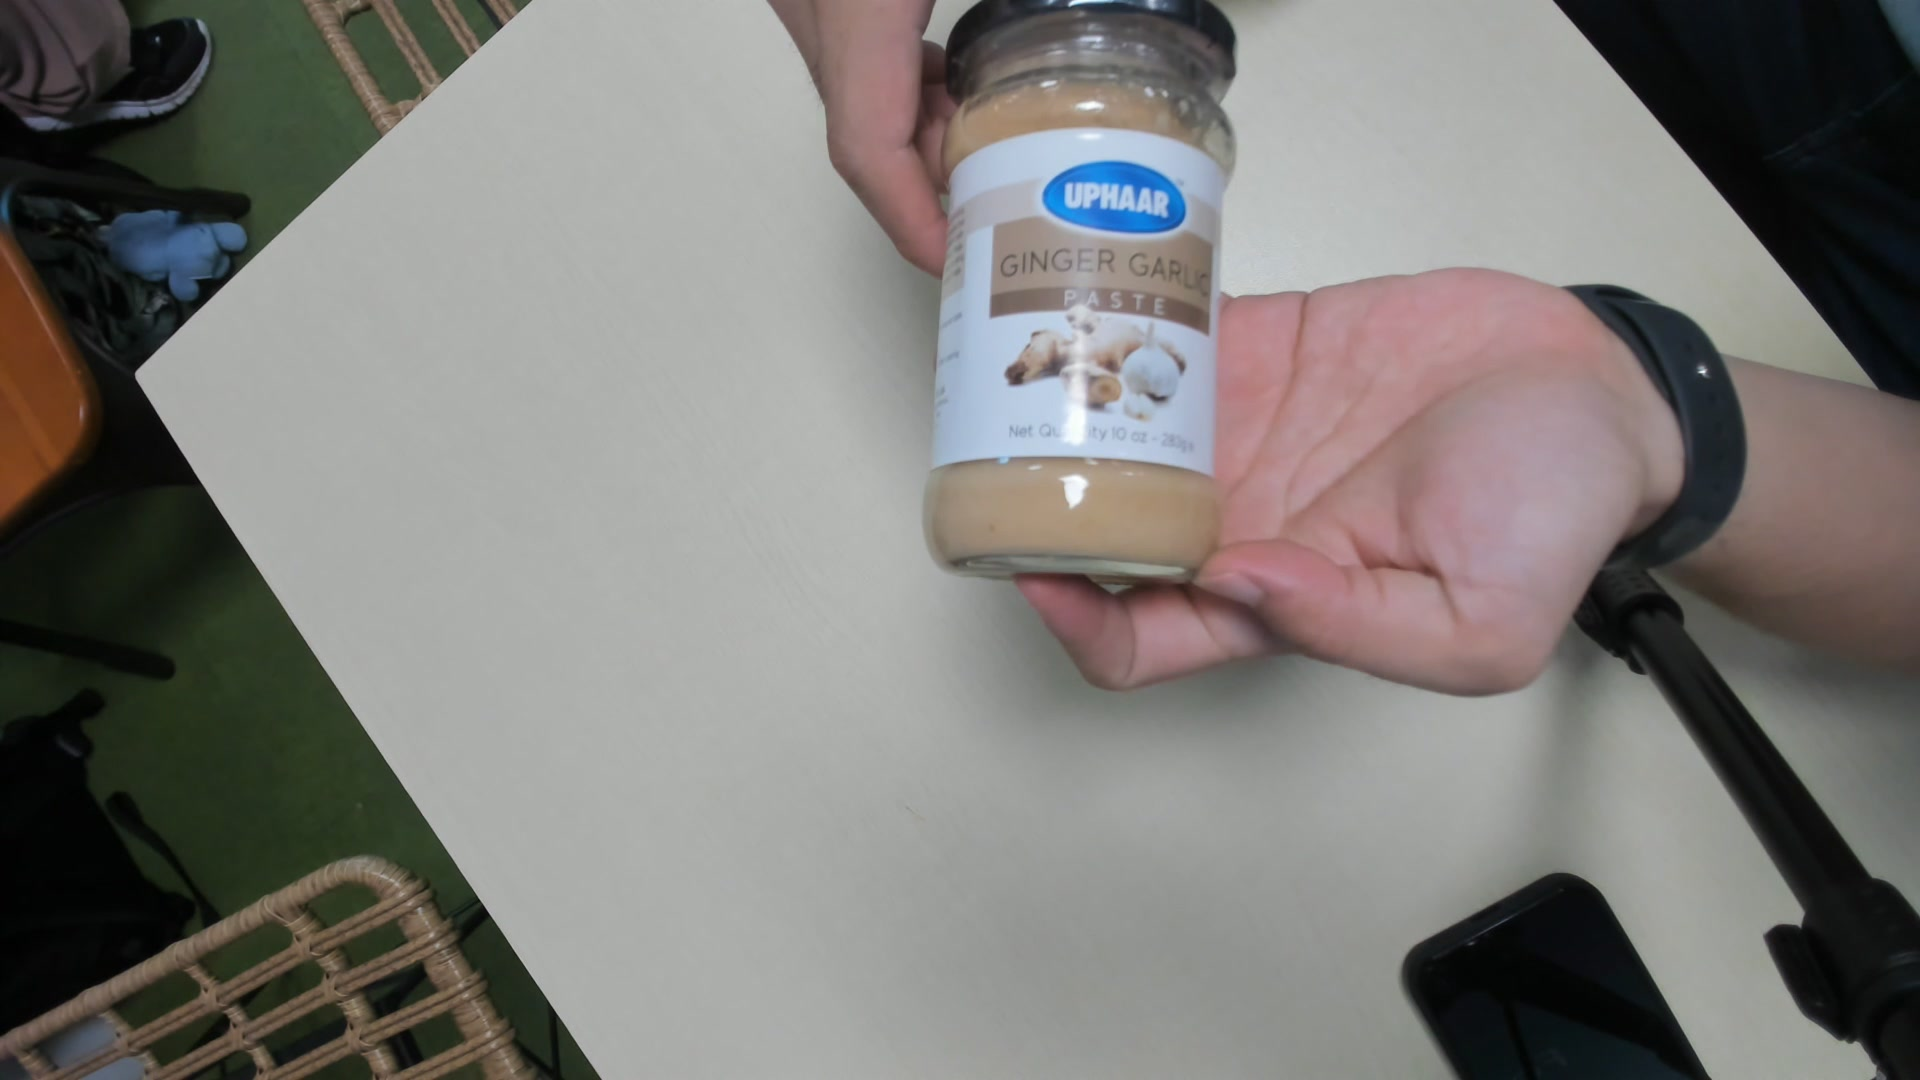OtherSauceDressing_200-299g_NonHalal_NonHealthy: (924, 5, 1234, 588)
